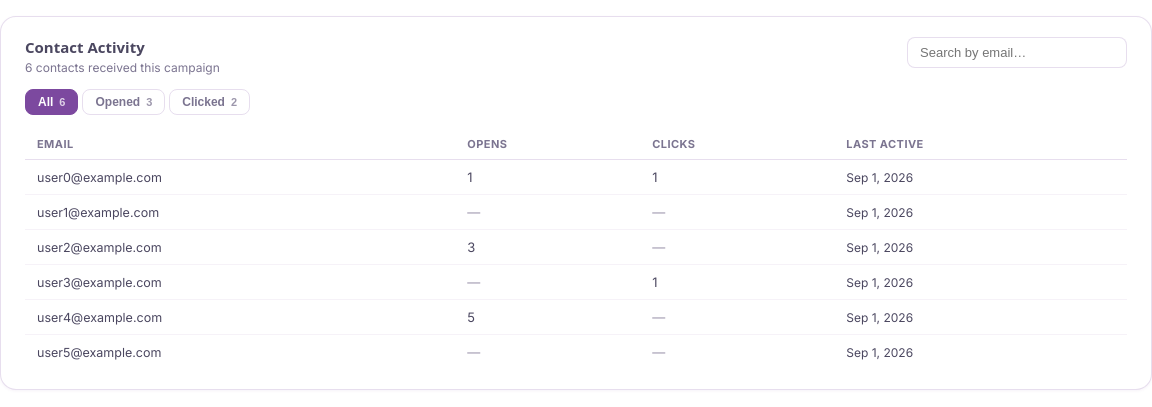
Test case: ContactsCard › filters by search term across emails
Type "user3" into the field with placeholder "Search by email…". click: (1017, 52)
box: [907,37,1127,68]
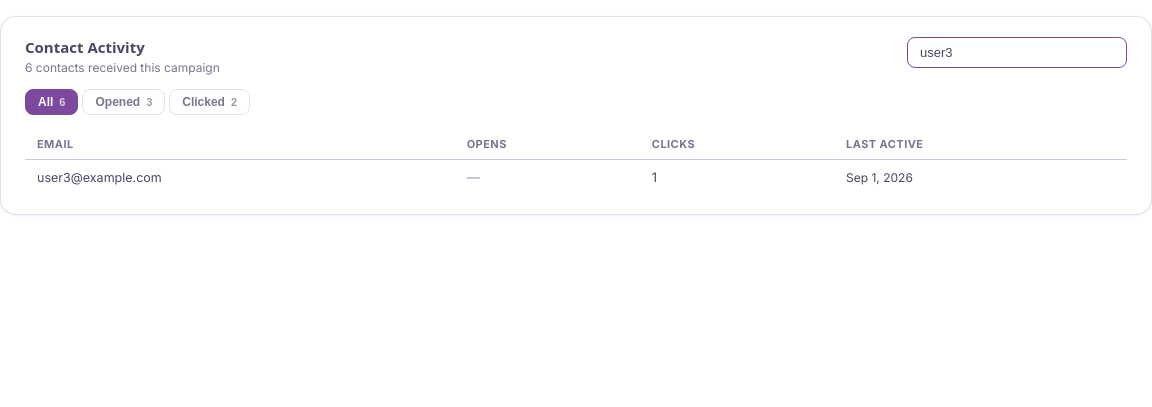
Expected: the text "user3@example.com" is shown, [25,160,455,194]
Expected: the text "user1@example.com" is gone
